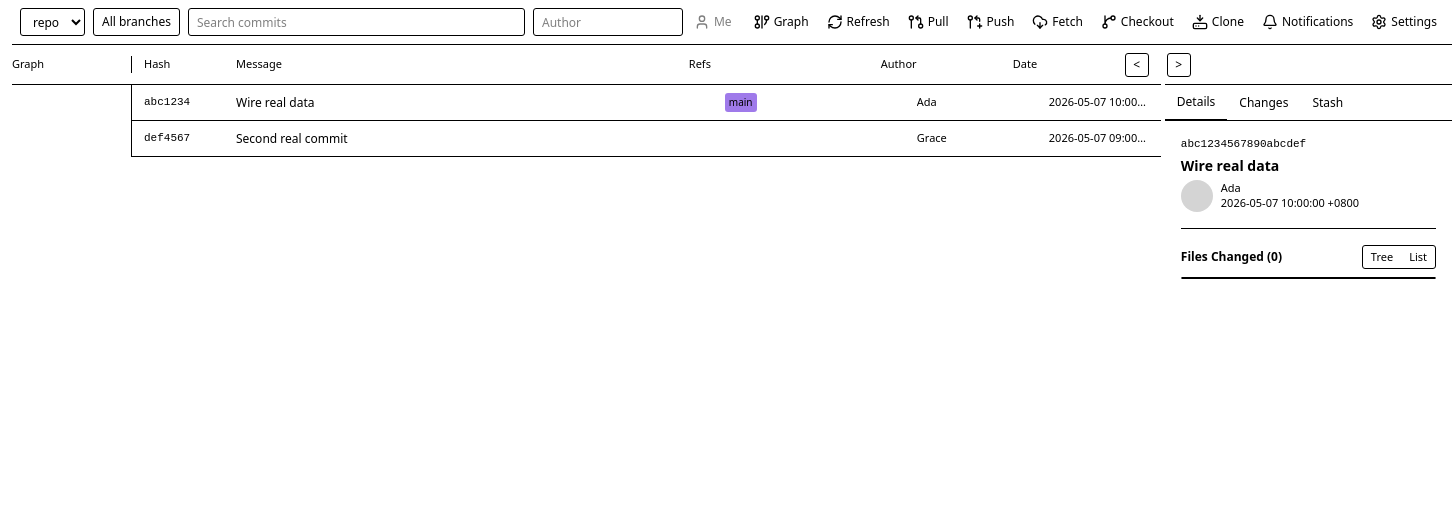
Test: App › keeps older action responses from replacing newer working tree load changes
Click the tab "Changes" at {"x": 1264, "y": 102}, box [1227, 85, 1300, 120]
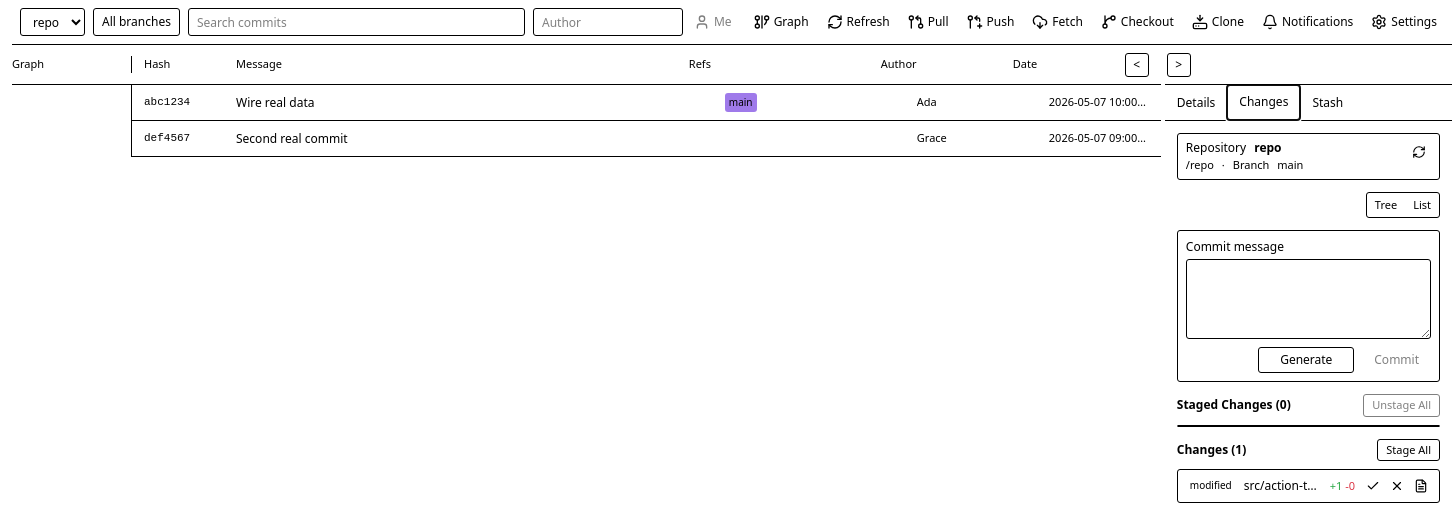
Click the button named "Stage src/action-target.ts" at {"x": 1373, "y": 486}, box [1363, 476, 1383, 496]
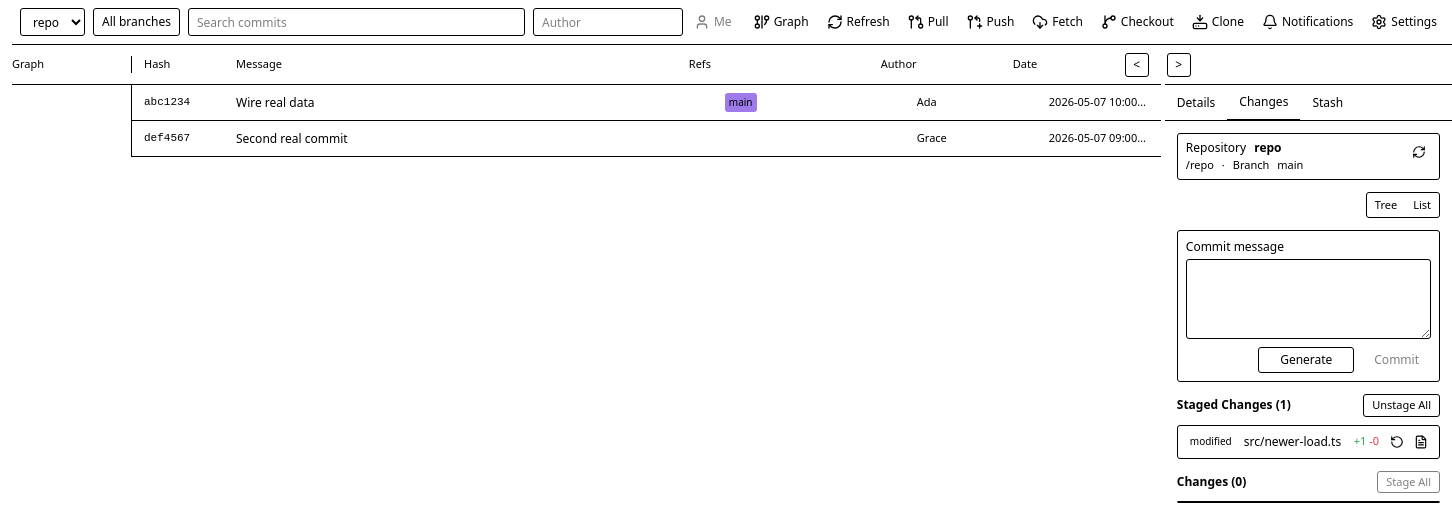
Check: the button "Pull" is enabled, box [901, 8, 956, 36]
Check: the button "src/newer-load.ts" is shown, box [1244, 434, 1346, 450]
